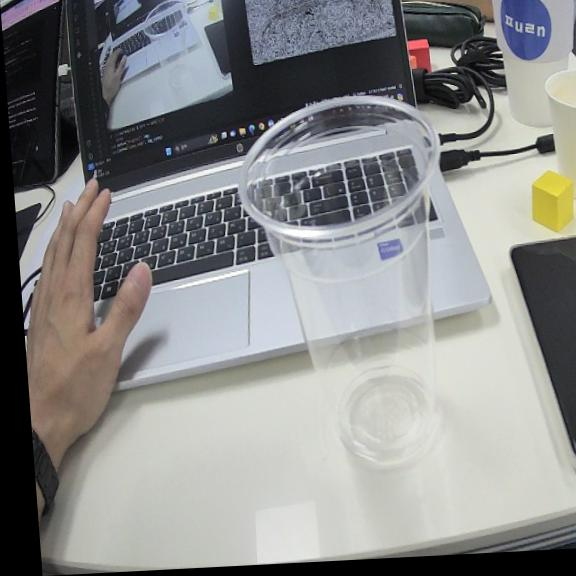Plastik: (239, 96, 440, 465), (240, 97, 439, 465)
